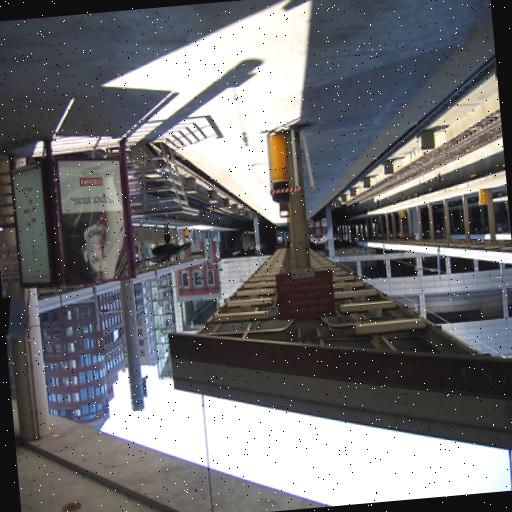platform_edge: (302, 53, 504, 178)
